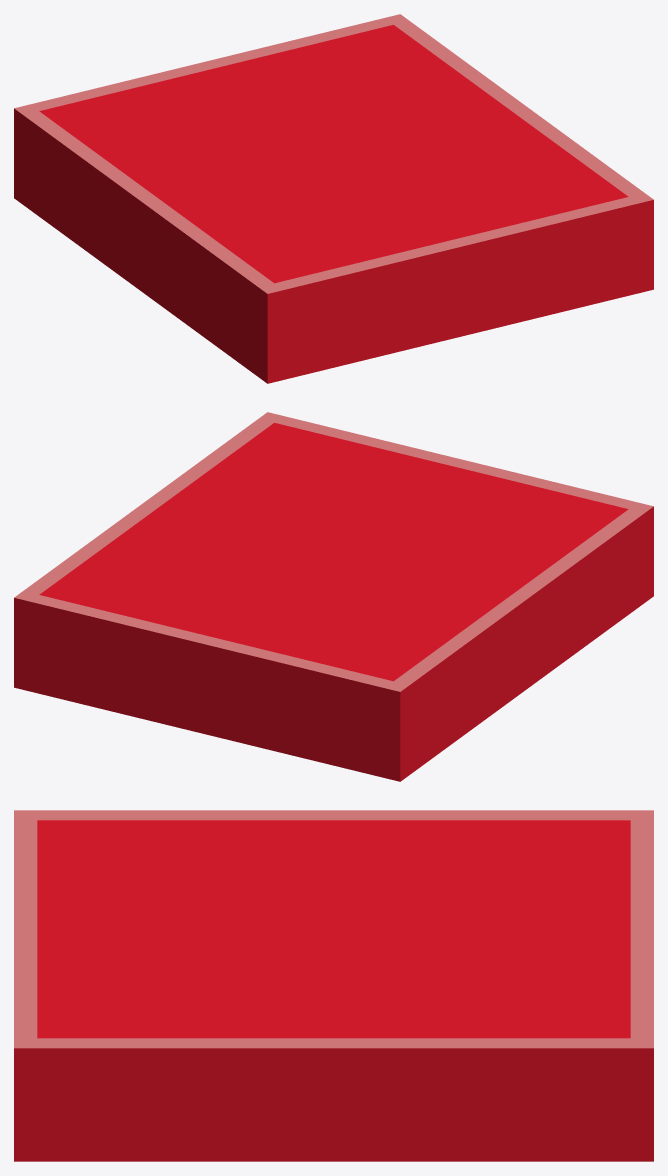
File: RedBlock.fbx
The picture shows the model from 3 angles, top to bottom: view 1: azimuth 30°, elevation 25°; view 2: azimuth 150°, elevation 25°; view 3: azimuth 270°, elevation 25°; orthographic projection. The views are drawn at different scales.
Visible parts, largest first — view 1: RedBlock; view 2: RedBlock; view 3: RedBlock.
Part boxes in pixels (x1,y1,x2,y2): RedBlock: (14,14,653,383); RedBlock: (14,412,653,781); RedBlock: (14,810,653,1161).
Bounding box in the file's own units: 202 × 44.98 × 230.
